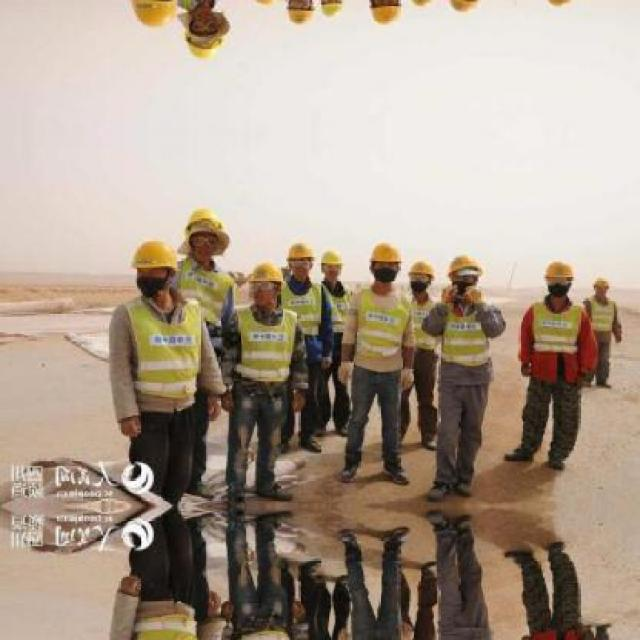Reflective-Jacket: (123, 297, 206, 414), (232, 308, 300, 390), (526, 299, 588, 383), (352, 286, 410, 374), (438, 292, 494, 370)
Safety-Helmet: (177, 202, 232, 243), (128, 235, 178, 274), (366, 237, 402, 266), (246, 258, 283, 284), (444, 251, 484, 275), (540, 257, 577, 281), (284, 237, 316, 261), (320, 246, 345, 268), (408, 257, 435, 277)
